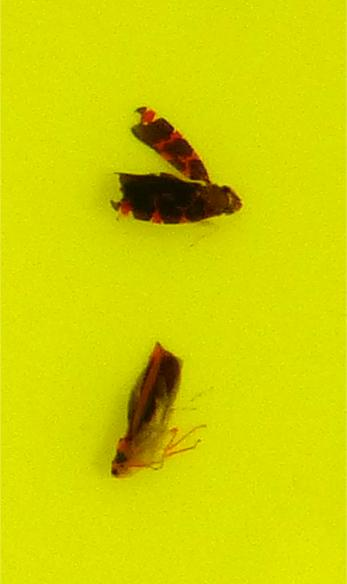Hemiptera: (100, 100, 247, 231), (106, 343, 188, 484)
